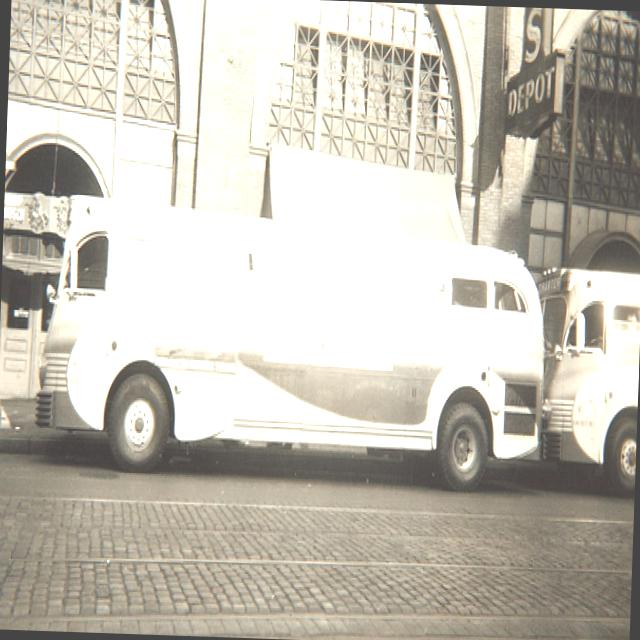Vehicle: (32, 195, 546, 489), (529, 269, 640, 492)
